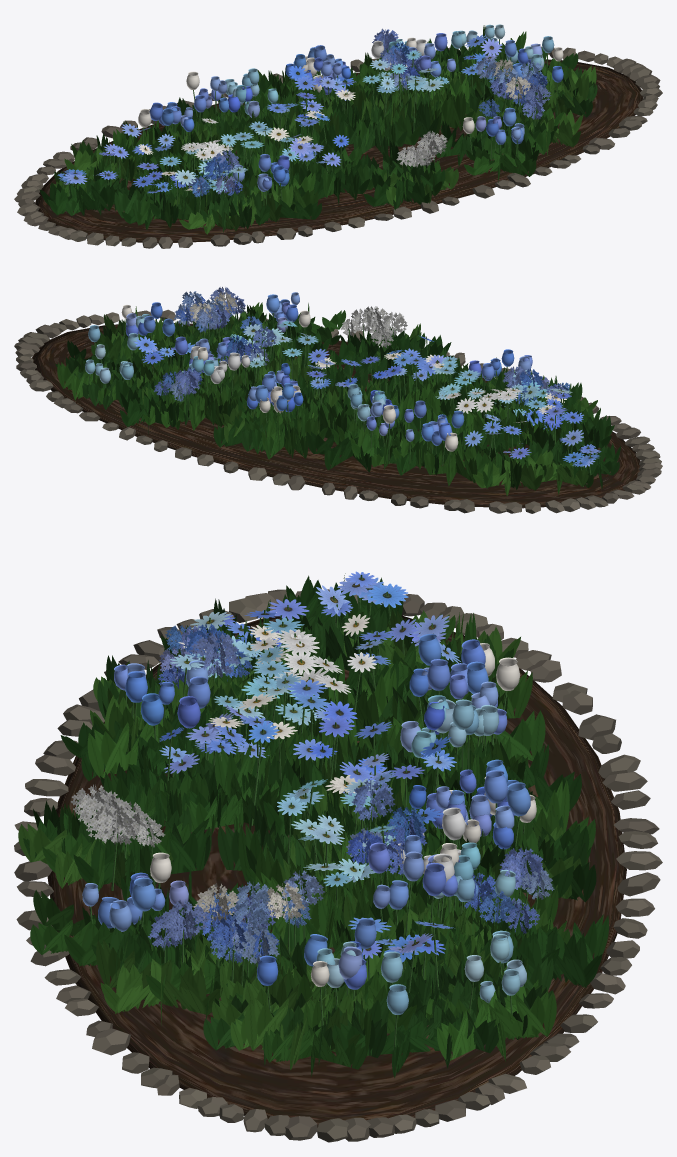
The model's file is flower-bed-4.glb.
3 views of the same model, one above another, from view 1: azimuth 30°, elevation 25°; view 2: azimuth 150°, elevation 25°; view 3: azimuth 270°, elevation 25° (orthographic). The views are drawn at different scales.
Parts seen in each view (by area): view 1: flower-bed-4_FlowerFoliage, flower-bed-4_Mulch, flower-bed-4_FlowerCup, flower-bed-4_FlowerDaisy, flower-bed-4_EdgeStone, flower-bed-4_FlowerFloret, flower-bed-4_FlowerStem; view 2: flower-bed-4_FlowerFoliage, flower-bed-4_Mulch, flower-bed-4_FlowerCup, flower-bed-4_EdgeStone, flower-bed-4_FlowerDaisy, flower-bed-4_FlowerFloret, flower-bed-4_FlowerStem; view 3: flower-bed-4_FlowerFoliage, flower-bed-4_Mulch, flower-bed-4_FlowerCup, flower-bed-4_EdgeStone, flower-bed-4_FlowerDaisy, flower-bed-4_FlowerFloret, flower-bed-4_FlowerStem.
Part boxes in pixels (<box>): flower-bed-4_FlowerFoliage: <box>39,25,597,234</box>; flower-bed-4_Mulch: <box>35,59,643,243</box>; flower-bed-4_FlowerCup: <box>138,24,563,191</box>; flower-bed-4_FlowerDaisy: <box>57,34,502,193</box>; flower-bed-4_EdgeStone: <box>14,46,662,248</box>; flower-bed-4_FlowerFloret: <box>188,28,551,196</box>; flower-bed-4_FlowerStem: <box>62,39,559,214</box>; flower-bed-4_FlowerFoliage: <box>55,302,620,496</box>; flower-bed-4_Mulch: <box>32,323,640,508</box>; flower-bed-4_FlowerCup: <box>85,292,532,451</box>; flower-bed-4_EdgeStone: <box>14,309,662,513</box>; flower-bed-4_FlowerDaisy: <box>131,320,601,467</box>; flower-bed-4_FlowerFloret: <box>154,287,570,405</box>; flower-bed-4_FlowerStem: <box>87,313,591,486</box>; flower-bed-4_FlowerFoliage: <box>18,573,609,1077</box>; flower-bed-4_Mulch: <box>47,615,626,1127</box>; flower-bed-4_FlowerCup: <box>82,634,536,1014</box>; flower-bed-4_EdgeStone: <box>14,589,662,1142</box>; flower-bed-4_FlowerDaisy: <box>159,571,460,962</box>; flower-bed-4_FlowerFloret: <box>70,623,554,964</box>; flower-bed-4_FlowerStem: <box>89,575,538,1051</box>.
Size of the model in its own units: 5.18 by 0.6951 by 2.57.
7 materials, 4 textured.
